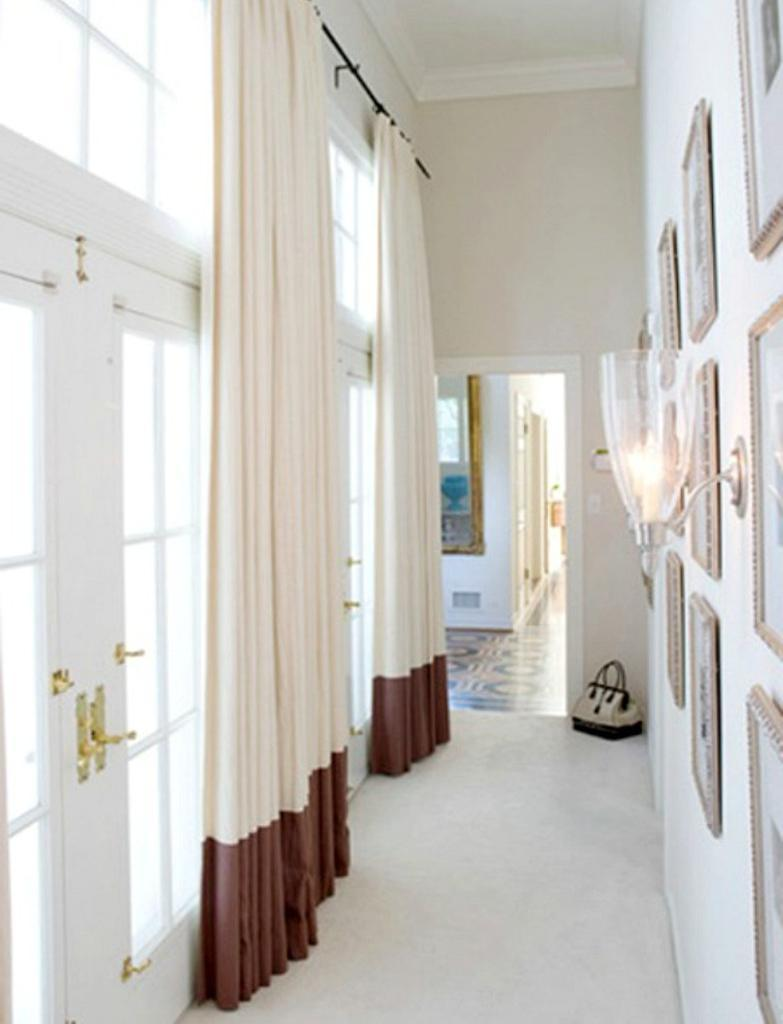door: (114, 334, 194, 1008), (0, 294, 58, 1024)
handle: (96, 710, 140, 746), (113, 640, 145, 670), (74, 736, 89, 782)
